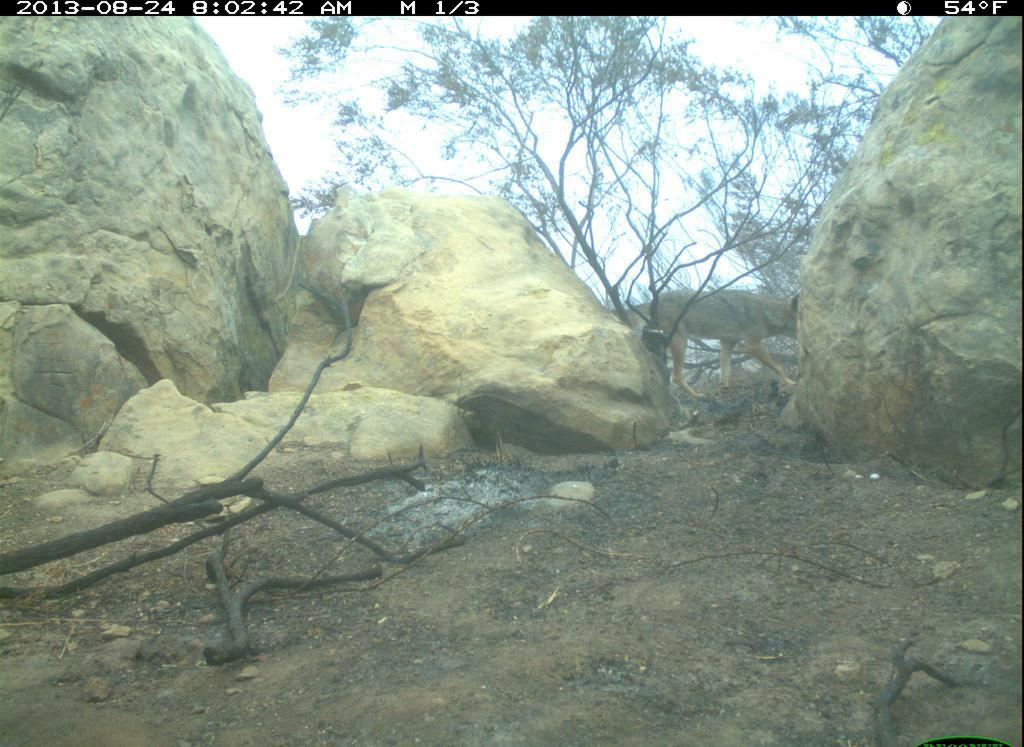coyote: (612, 290, 803, 405)
